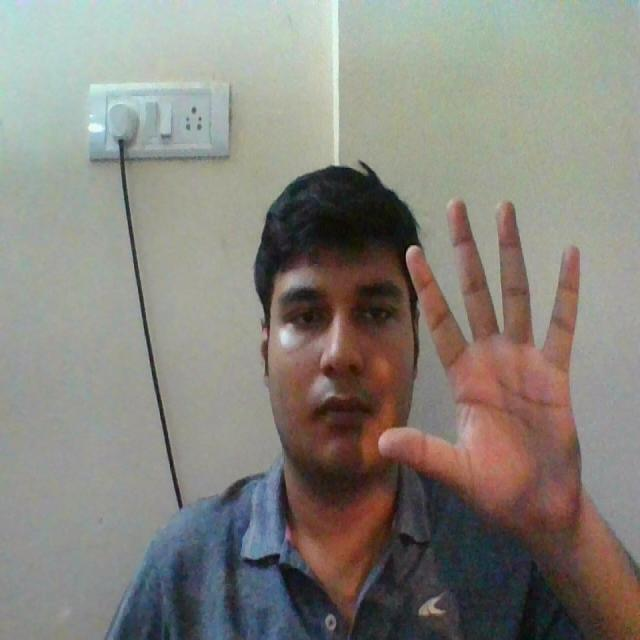Hello: (369, 176, 608, 562)
